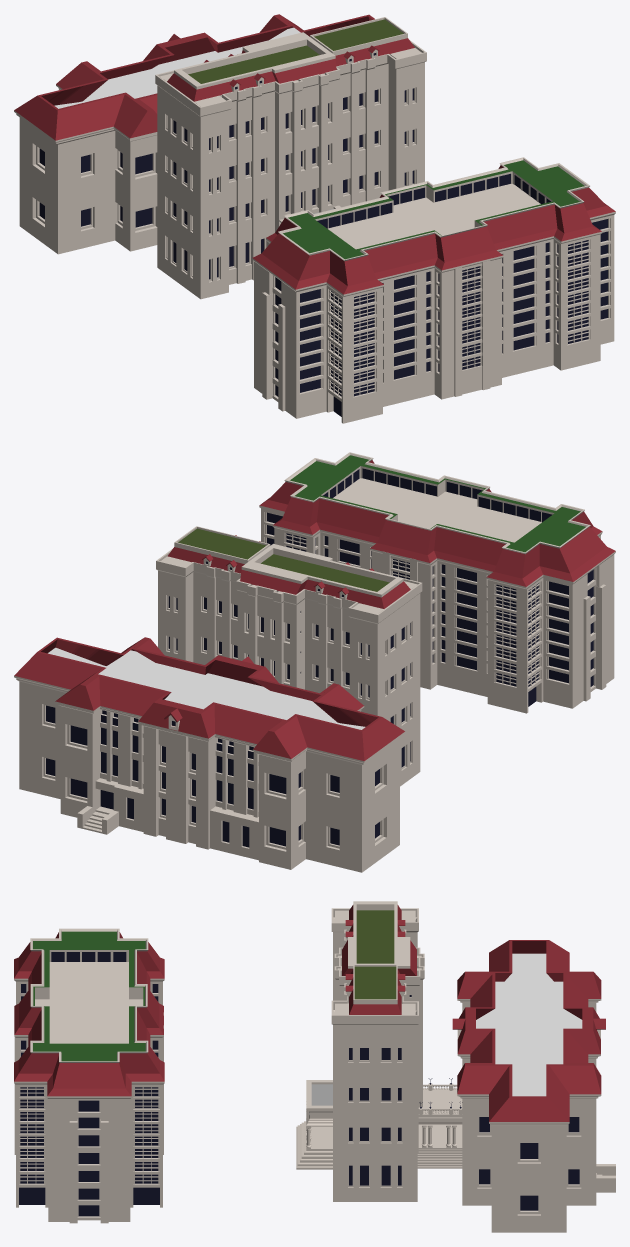
3 renders of one model, top to bottom at view 1: azimuth 30°, elevation 25°; view 2: azimuth 150°, elevation 25°; view 3: azimuth 270°, elevation 25°, orthographic. The views are drawn at different scales.
Parts seen in each view (by area): view 1: Cube.012, Plane.005, Plane.001; view 2: Plane.001, Cube.012, Plane.005; view 3: Cube.012, Plane.001, Plane.005, Cube.007, Cube.
Part boxes in pixels (x1,y1,x2,y2): Cube.012: (252,157,615,423); Plane.005: (155,17,426,299); Plane.001: (14,14,374,254); Plane.001: (14,637,405,872); Cube.012: (259,452,615,713); Plane.005: (156,526,422,786); Cube.012: (14,928,164,1223); Plane.001: (457,940,615,1232); Plane.005: (296,901,456,1201); Cube.007: (417,1078,462,1168); Cube: (345,920,405,996).
Size of the model in its own units: 7478 by 4104 by 11235.
